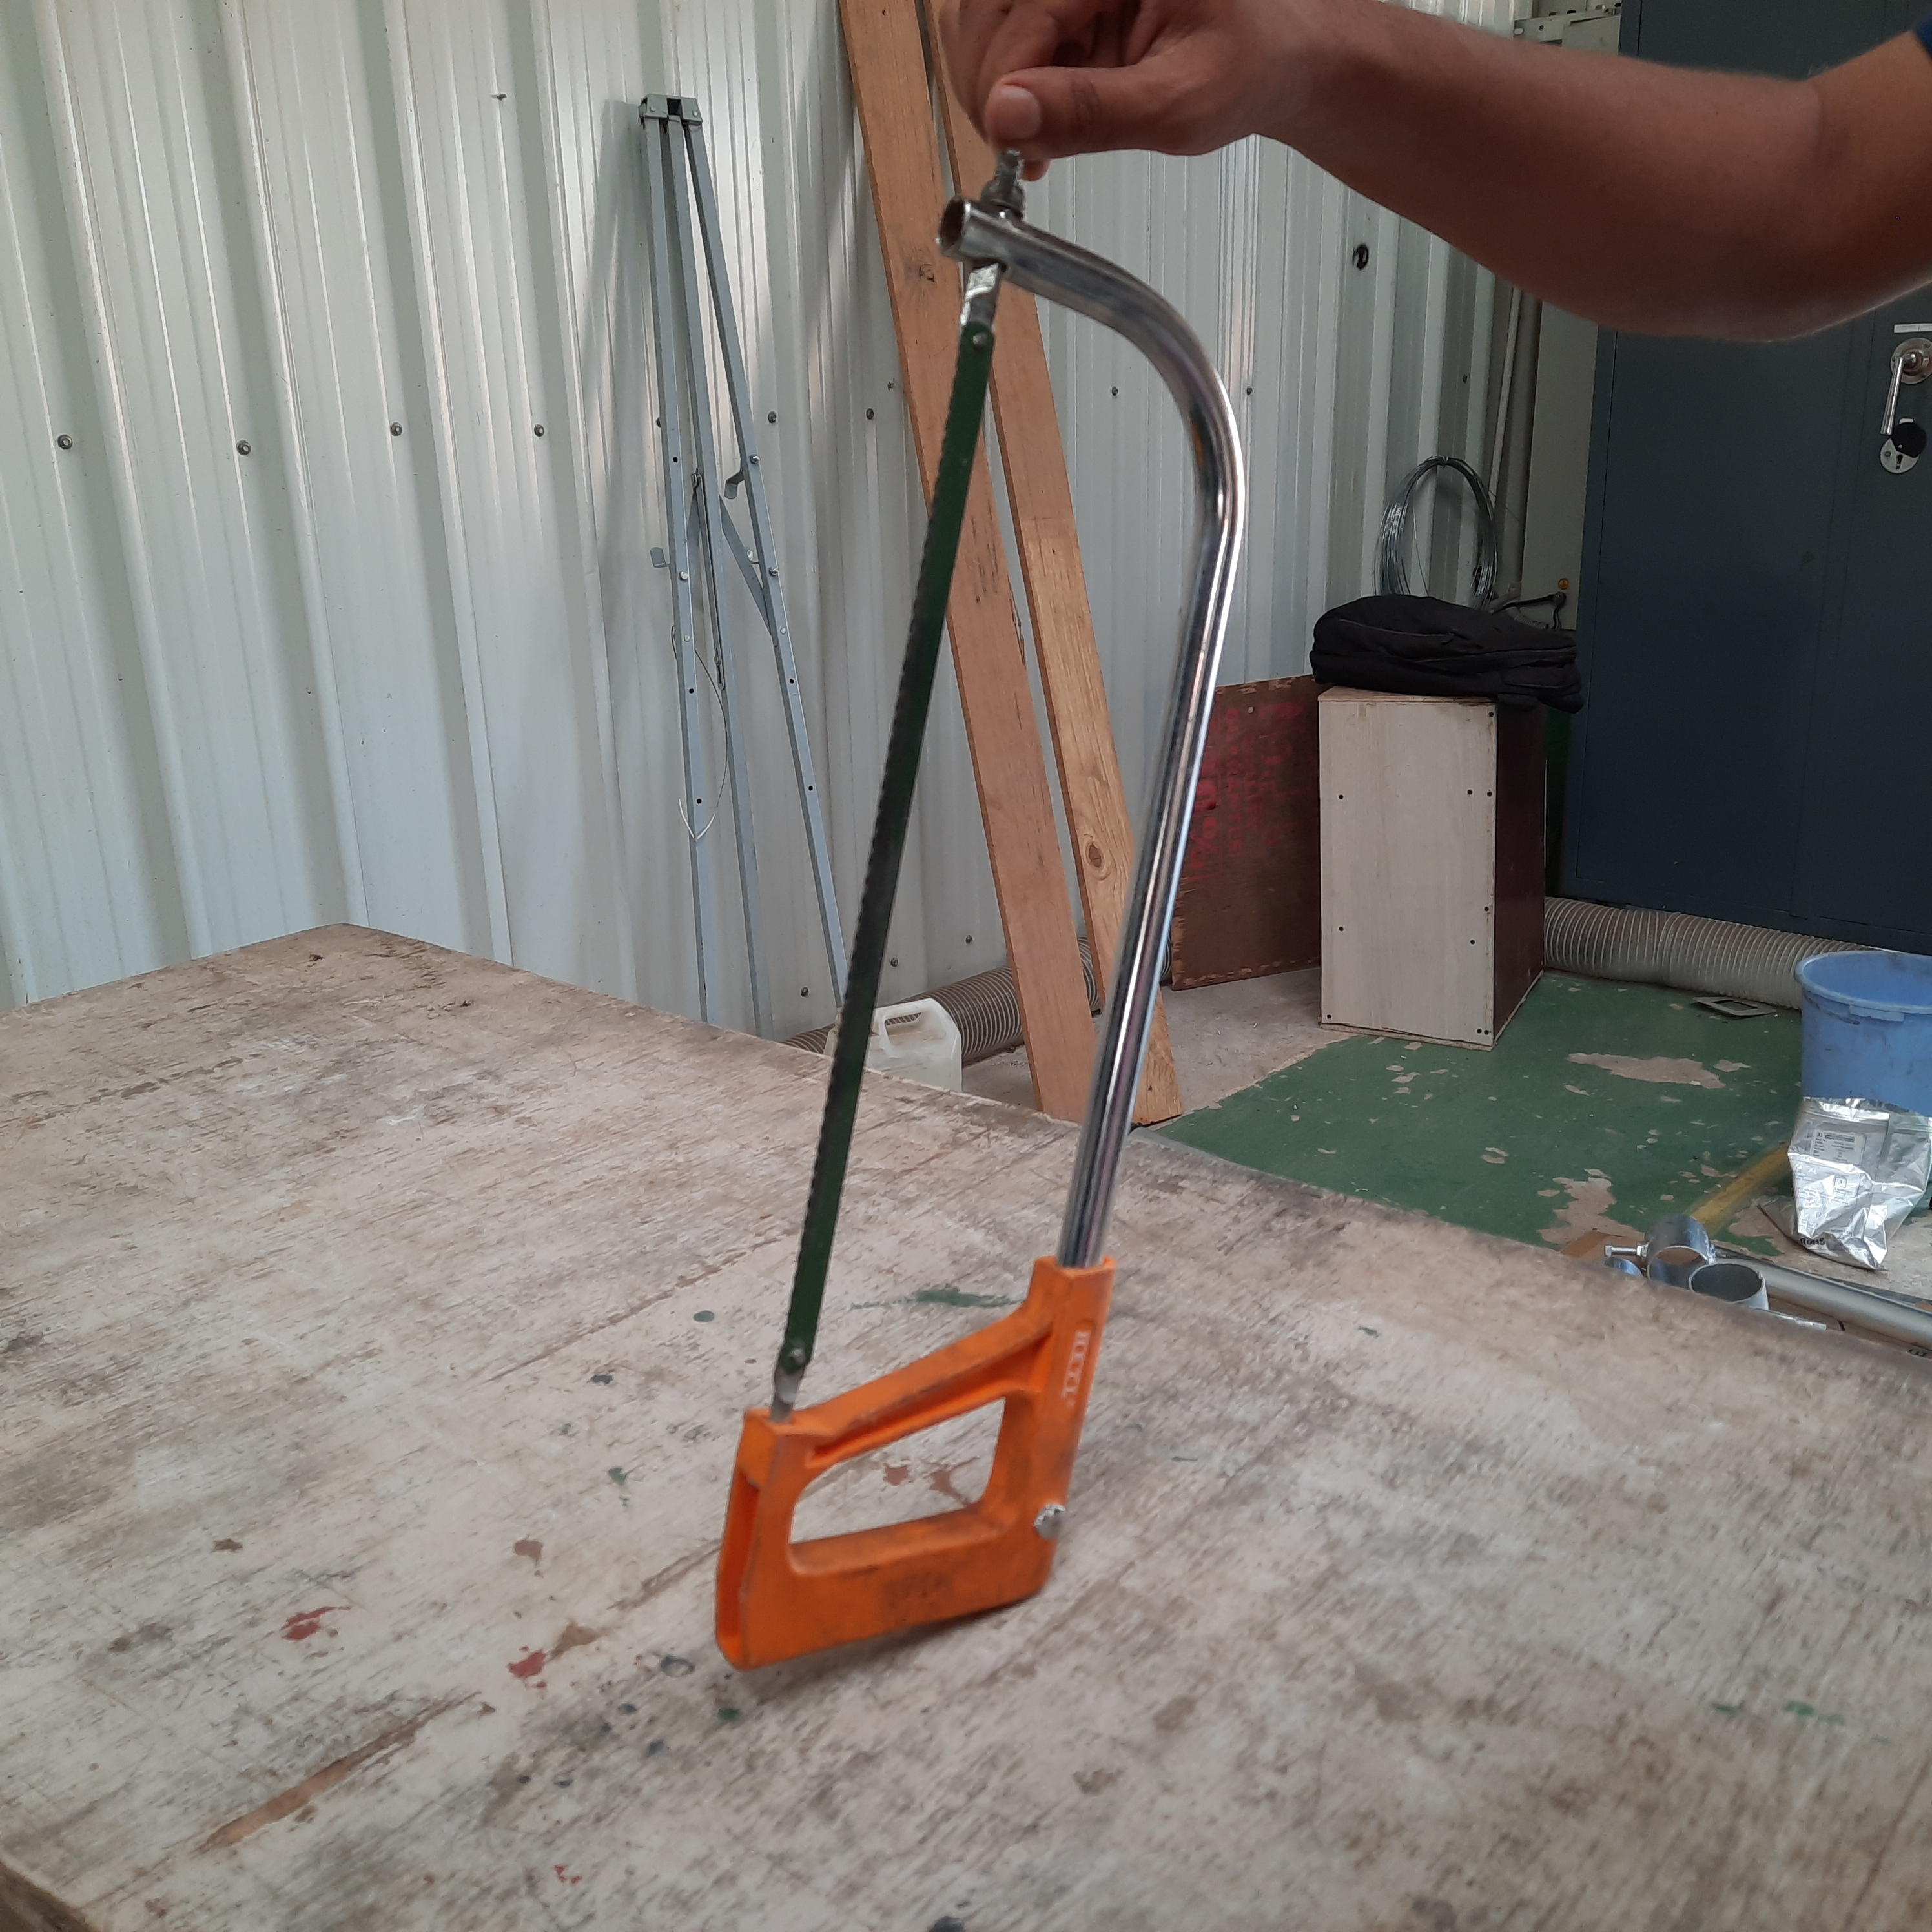Hexaframe: (694, 120, 1292, 1675)
